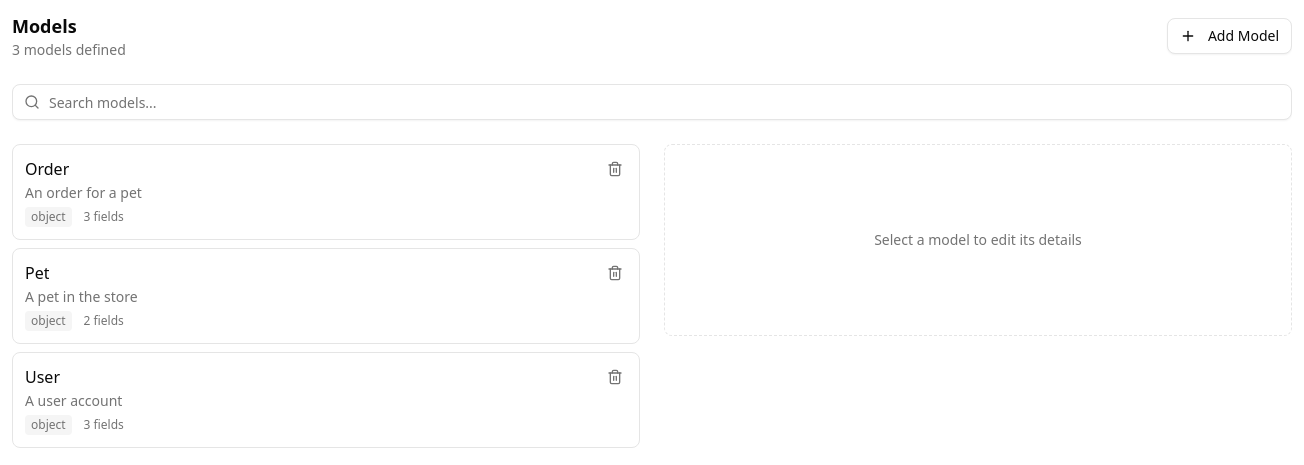
ModelsTab › Search and Filter › should show no results message when filter matches nothing
Type "xyz123" into the search field labelled "Search models..." at {"x": 652, "y": 102}, box [12,84,1292,120]
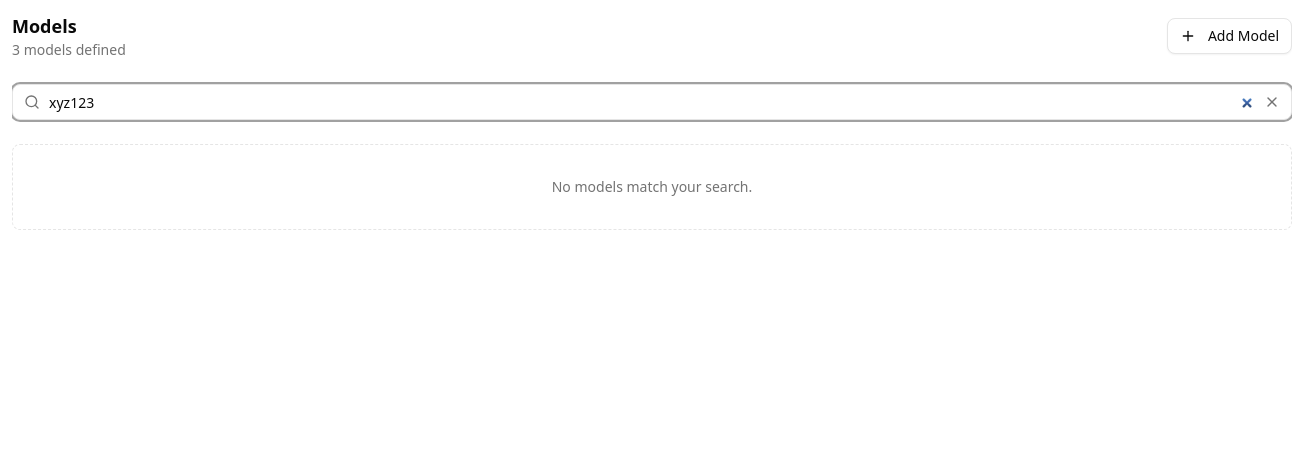
Check: the text "No models match your search." is shown, box [552,177,752,196]
